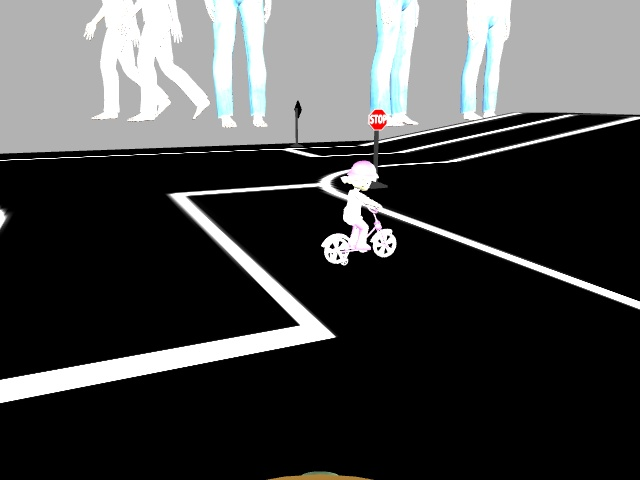Pedestrian: (317, 161, 400, 268)
Stop: (367, 105, 390, 130)
